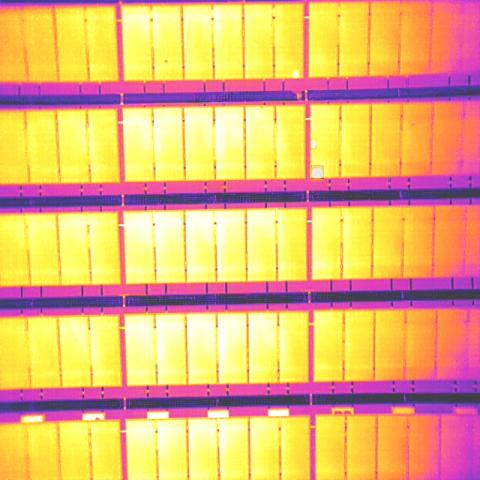fault: (311, 165, 324, 179), (310, 138, 317, 150), (293, 70, 299, 78)
